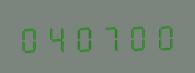four: (43, 20, 68, 53)
seven: (96, 20, 121, 52)
zero: (70, 20, 95, 53), (122, 19, 147, 52), (17, 21, 42, 53), (148, 19, 173, 51)
